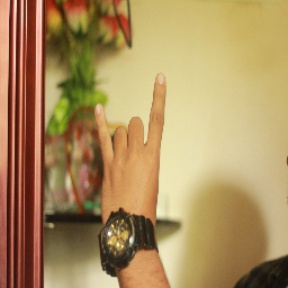V: (90, 70, 173, 225)
